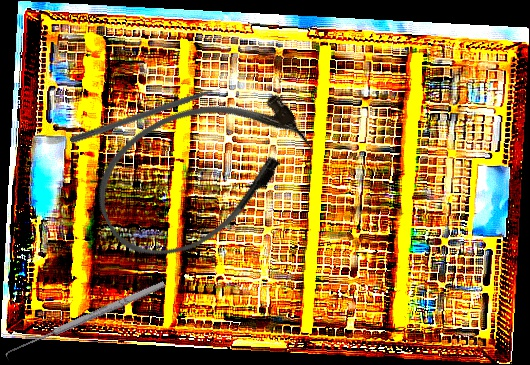Cannula: (76, 64, 327, 278)
Hook Surgical: (3, 278, 169, 365)
Pusher: (69, 81, 233, 146)
